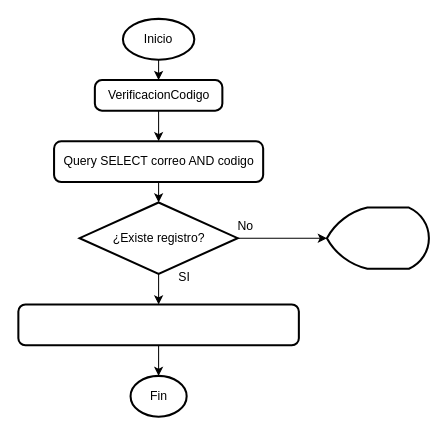
The diagram is 448 pixels wide and 435 high, and some of its shapes have lost their labels. The shapes that lost their labels are listed below. From the top down, each one's box as (x1, y1, x2, y2) in pixels, then its label:
(325, 206, 429, 269): No encontrado
(17, 303, 299, 346): Query UPDATE origen WHERE correo = correo
